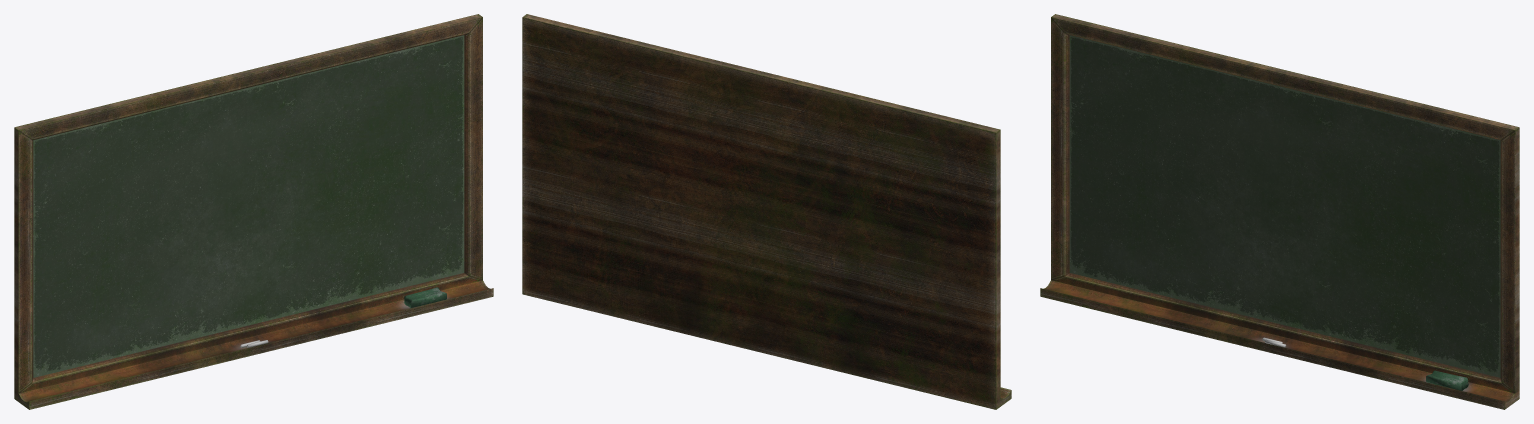
File: Chalkboard.fbx
The picture shows the model from 3 angles, left to right: view 1: azimuth 30°, elevation 25°; view 2: azimuth 150°, elevation 25°; view 3: azimuth 330°, elevation 25°; orthographic projection. The views are drawn at different scales.
Parts seen in each view (by area): view 1: Chalkboard_LP; view 2: Chalkboard_LP; view 3: Chalkboard_LP.
Part boxes in pixels (x1=…): Chalkboard_LP: x1=14, y1=14, x2=493, y2=409; Chalkboard_LP: x1=522, y1=14, x2=1011, y2=409; Chalkboard_LP: x1=1040, y1=14, x2=1519, y2=409.
Bounding box in the file's own units: 3.25 × 0.1828 × 1.82.
Materials: 1 (1 with a texture image).
